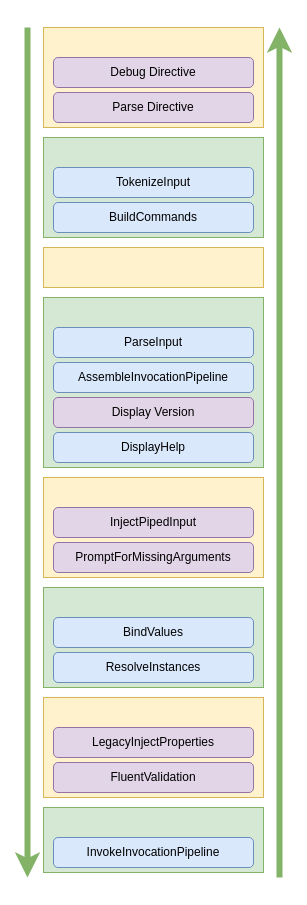
This 307x905 diagram has some shape labels left out. Here are the shapes that lost their labels. From the top down, the box of each, then its label:
(42, 26, 264, 128): PreTokenize
(42, 136, 264, 238): Tokenize (core)
(42, 246, 264, 288): PostTokenizePreParseInput
(42, 296, 264, 468): ParseInput (core)
(42, 476, 264, 578): PostParseInputPreBindValues
(42, 586, 264, 688): BindValues (core)
(42, 696, 264, 798): PostBindValuesPreInvoke
(42, 806, 264, 872): Invoke (core)
